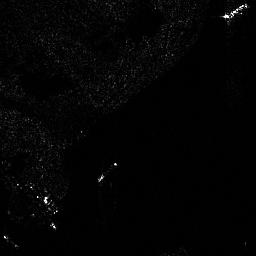ship: (223, 3, 247, 19)
